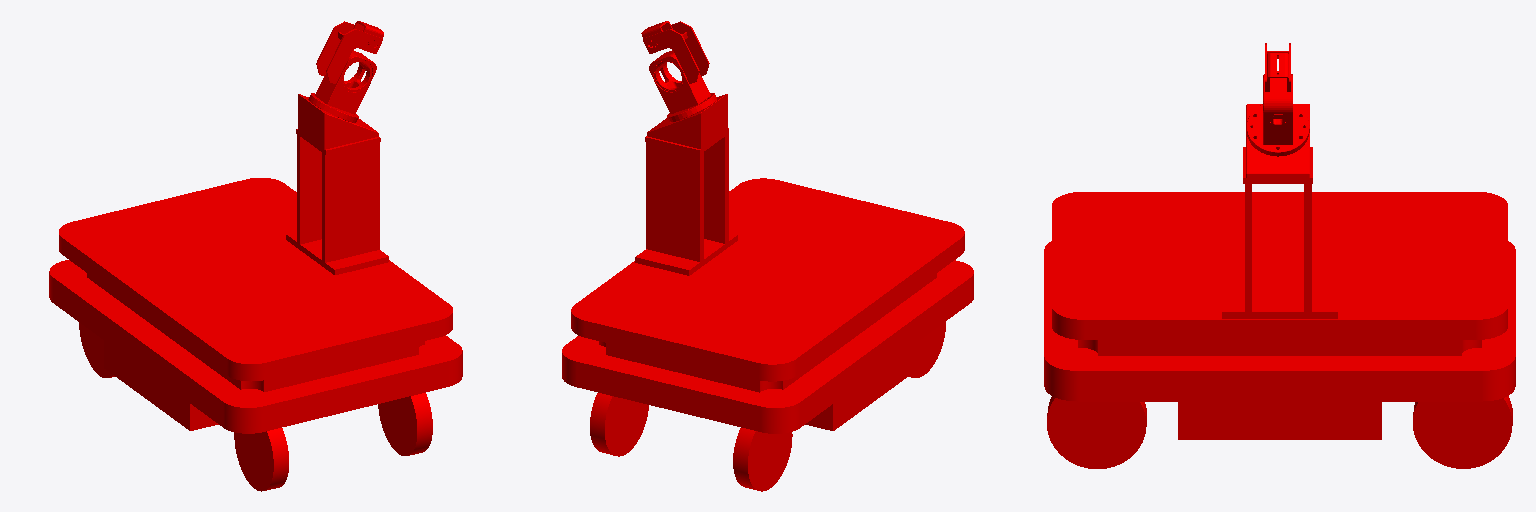
URDF robot description (tianji_car):
<?xml version="1.0" encoding="utf-8"?>
<robot name="tianji_car">
  <link name="base_link"/>
  <link name="move_x_link"/>
  <joint name="joint_1" type="fixed">
    <origin xyz="-0.234969 -0.493283 0.497258" rpy="0 0 0" />
    <parent link="base_link" />
    <child link="move_x_link" />
  </joint>
  <link name="move_y_link"/>
  <joint name="joint_2" type="fixed">
    <origin xyz="0 0 0" rpy="0 0 0" />
    <parent link="move_x_link" />
    <child link="move_y_link" />
  </joint>
  <link name="car_link">
    <visual>
      <origin xyz="0.234969 0.493283 -0.497258" rpy="0 0 0" />
      <geometry>
        <mesh filename="mesh/car.stl" scale="0.001 0.001 0.001" />
      </geometry>
      <material name=""><color rgba="1 0 0 1" /></material>
    </visual>
    <collision>
      <origin xyz="0.234969 0.493283 -0.497258" rpy="0 0 0" />
      <geometry>
        <mesh filename="mesh/car.stl" scale="0.001 0.001 0.001"/>
      </geometry>
    </collision>
  </link>
  <joint name="joint_3" type="fixed">
    <origin xyz="0 0 0" rpy="0 0 0" />
    <parent link="move_y_link" />
    <child link="car_link" />
  </joint>
  <link name="car_base">
    <visual>
      <geometry>
        <mesh filename="mesh/tianji_base.stl" scale="0.001 0.001 0.001" />
      </geometry>
      <material name=""><color rgba="1 0 0 1" /></material>
    </visual>
    <collision>
      <geometry>
        <mesh filename="meshes/tianji_base.stl" scale="0.001 0.001 0.001"/>
      </geometry>
    </collision>
  </link>
  <joint name="joint_4" type="fixed">
    <origin xyz="0.3 0 0" rpy="0 0 0" />
    <parent link="car_link" />
    <child link="car_base" />
  </joint>
</robot>

--- What the picture shows (computed from the rendered views, not written in the file) ---
3 views of the same robot in one strip: view 1: azimuth 30°, elevation 25°; view 2: azimuth 150°, elevation 25°; view 3: azimuth 270°, elevation 25° (orthographic).
Model tianji_car with 5 links and 4 joints (4 fixed), rooted at base_link, posed all joints at 0.
Visible links, largest first — view 1: car_link, car_base; view 2: car_link, car_base; view 3: car_link, car_base.
Link boxes in pixels (box(x1,y1,x2,y2)): car_link: box(49, 178, 462, 491); car_base: box(286, 21, 388, 274); car_link: box(562, 178, 973, 491); car_base: box(635, 21, 737, 275); car_link: box(1044, 192, 1515, 468); car_base: box(1222, 43, 1337, 318).
Size in the robot's own frame: 0.8882 by 1.27 by 1.28 metres.
Meshes: 2 distinct files referenced, 2 mesh visuals loaded (2 binary STL).
